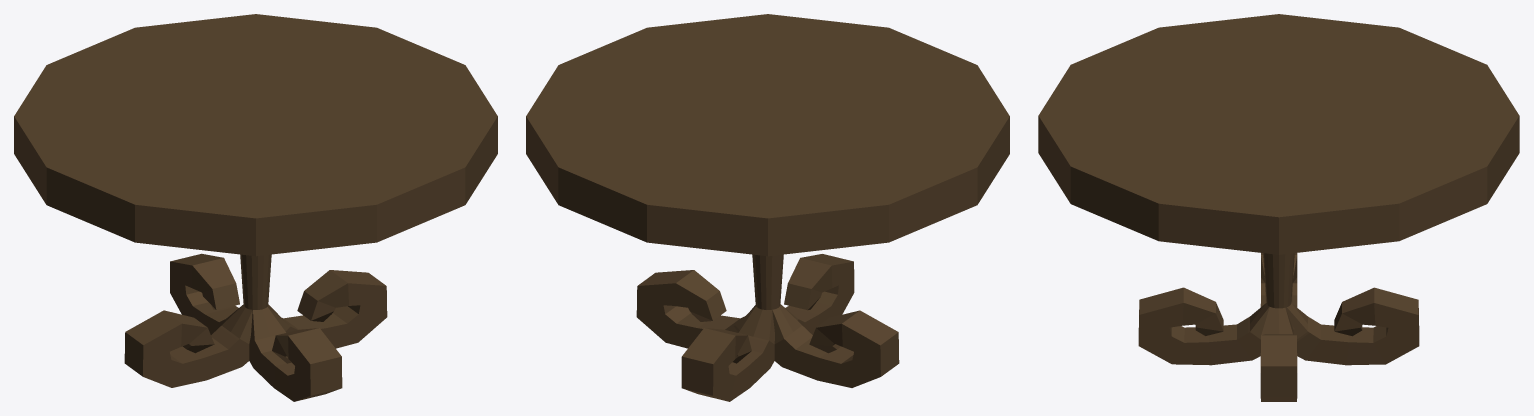
The model's file is LowPolyTableTest.glb.
3 views of the same model, side by side, from view 1: azimuth 30°, elevation 25°; view 2: azimuth 150°, elevation 25°; view 3: azimuth 270°, elevation 25° (orthographic).
Parts seen in each view (by area): view 1: Cylinder, Cube, Table; view 2: Cylinder, Cube, Table; view 3: Cylinder, Cube, Table.
Boxes of the visible parts, x1,y1,x2,y2 form: Cylinder: (14,14,497,256); Cube: (124,253,387,401); Table: (240,254,271,309); Cylinder: (526,14,1009,256); Cube: (636,254,899,401); Table: (752,254,783,309); Cylinder: (1038,14,1519,254); Cube: (1138,253,1419,401); Table: (1263,253,1294,308).
Bounding box in the file's own units: 2.61 × 1.45 × 2.61.
